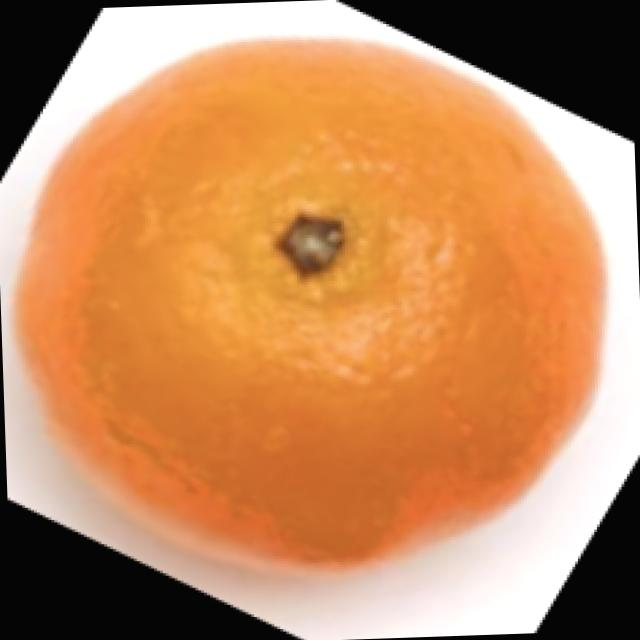orange: (8, 28, 624, 590)
